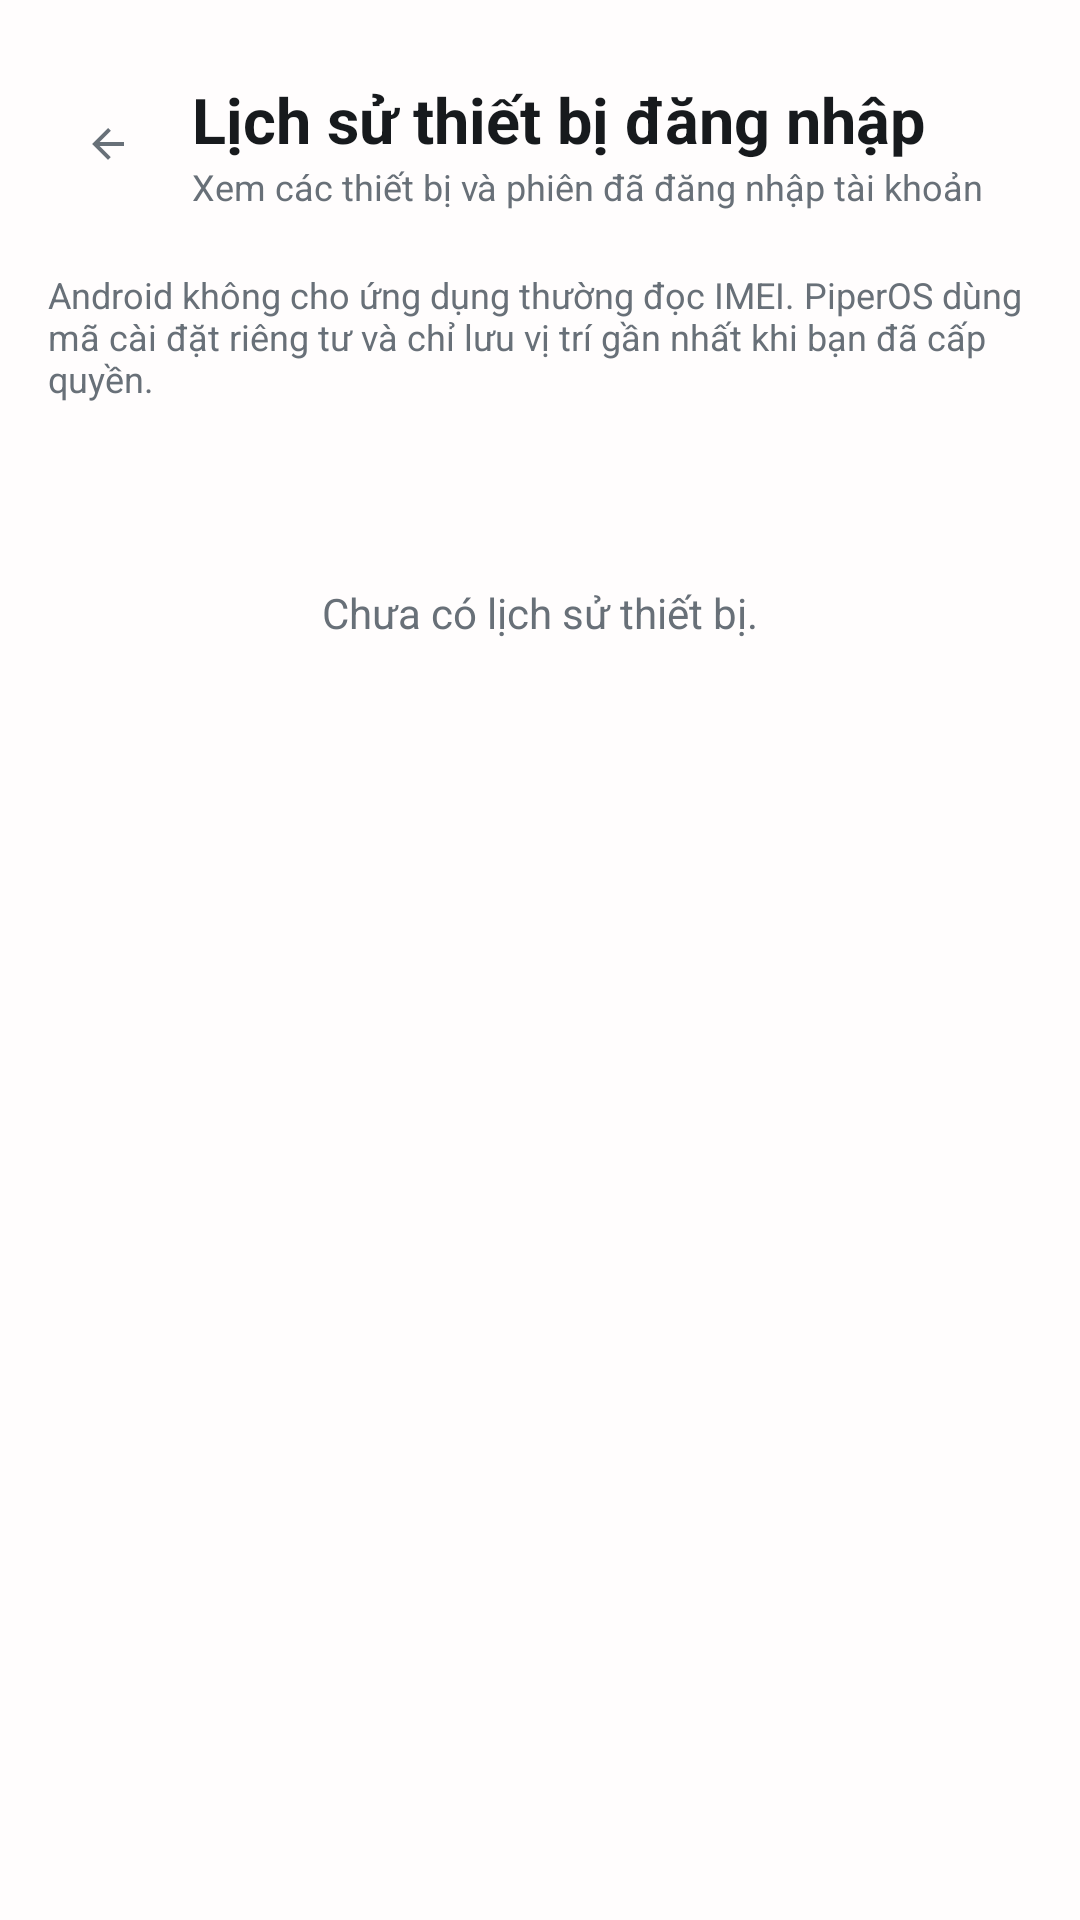

Icon click points for this 1080px x 1920px phone screenshot, format [x,y]:
Quay lại: [108,144]
